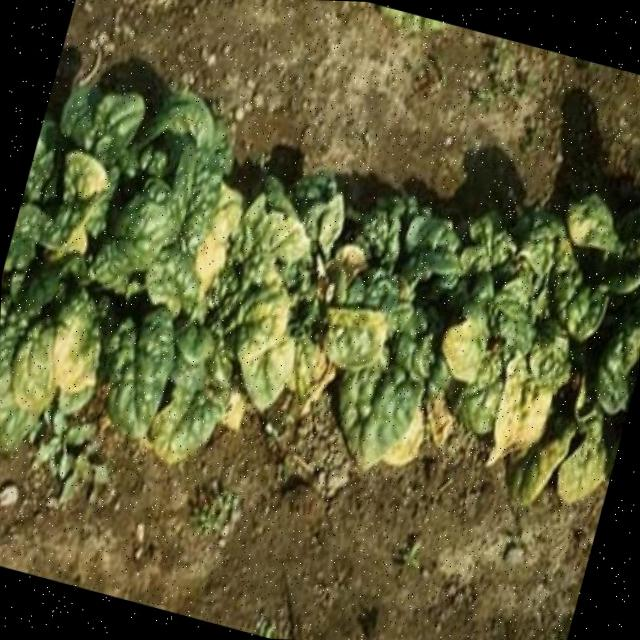Lettuce Mosaic Virus: (0, 138, 211, 407), (428, 240, 614, 470), (204, 195, 385, 418)
